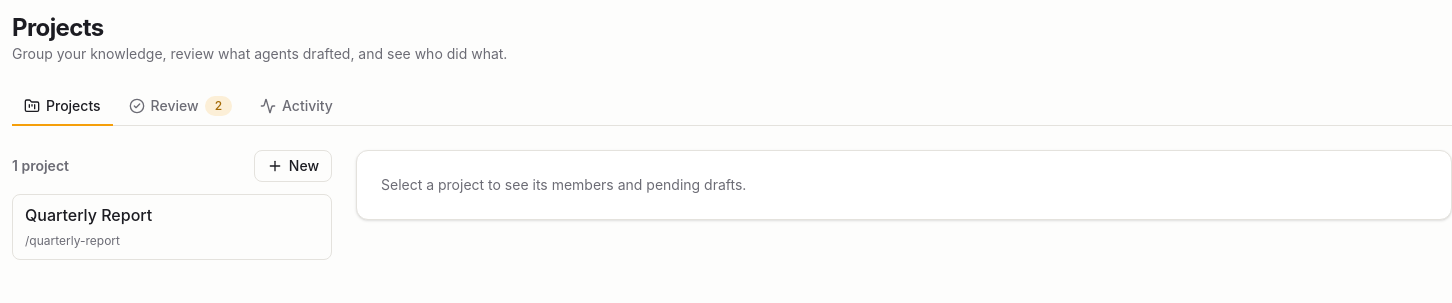
Test case: ProjectsPage › shows draft items with Approve actions on the Review tab
Click the button "Review 2" at x=180, y=107, box [117,88,244,126]
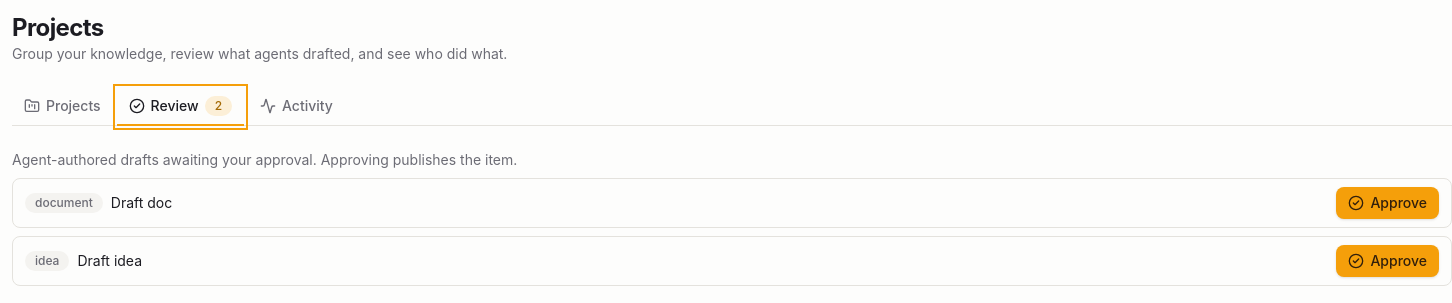
Now the link "Draft doc" is shown, box [111,193,172,213]
Now the link "Draft idea" is shown, box [77,251,142,271]
Now the number of buttons "Approve" is 2, box [1336,187,1439,219]; [1336,245,1439,277]
